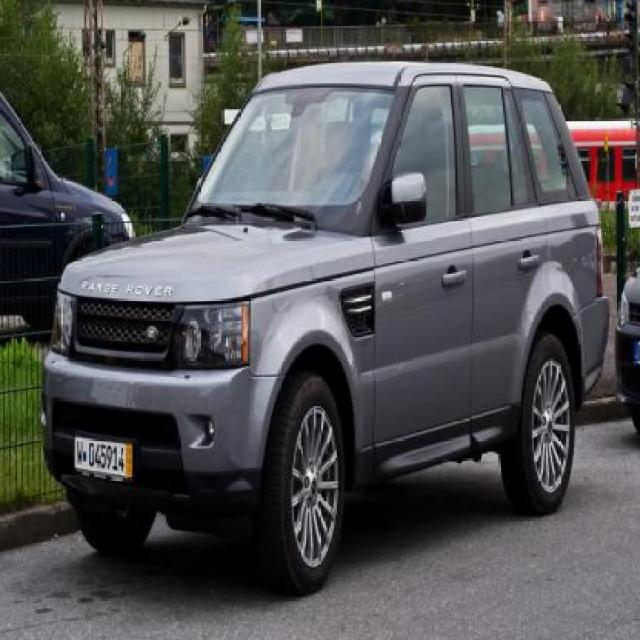License-Plates: (74, 430, 132, 482)
